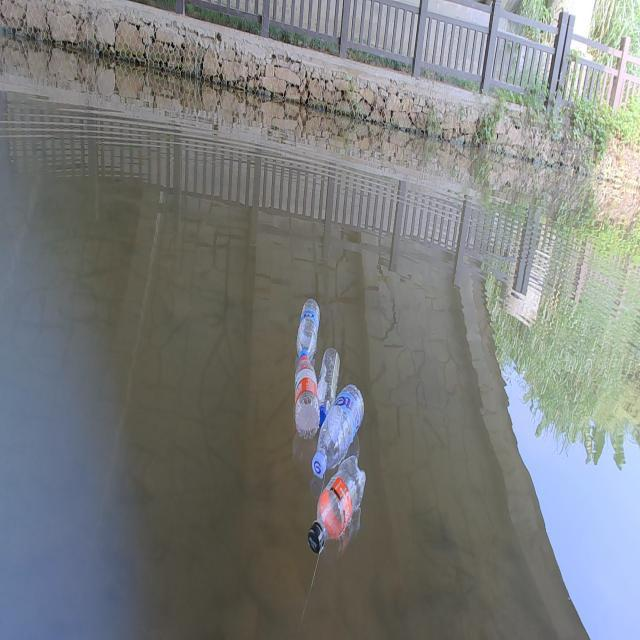bottle: (300, 452, 380, 557), (306, 380, 372, 479), (291, 351, 324, 441), (292, 296, 326, 360), (316, 349, 342, 411)
